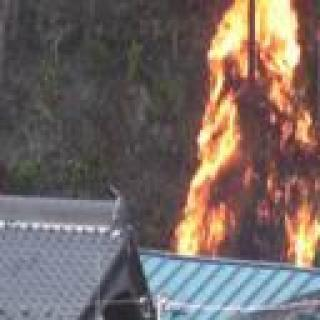fire: (185, 0, 320, 267)
